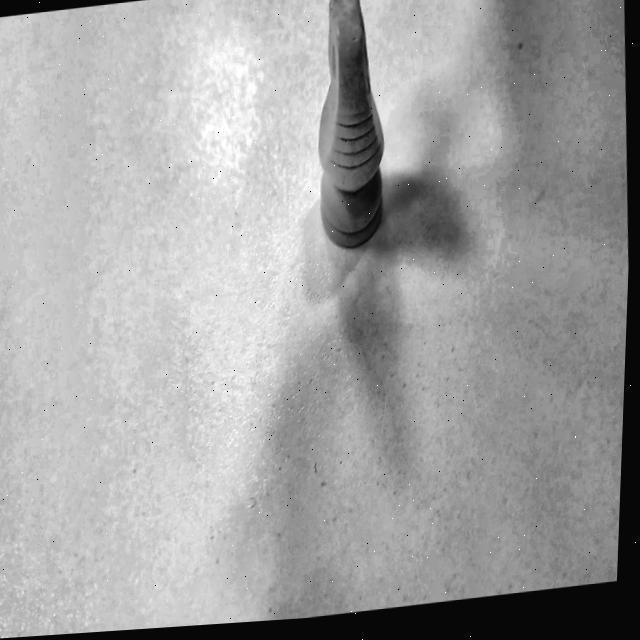white-knight: (283, 0, 424, 280)
